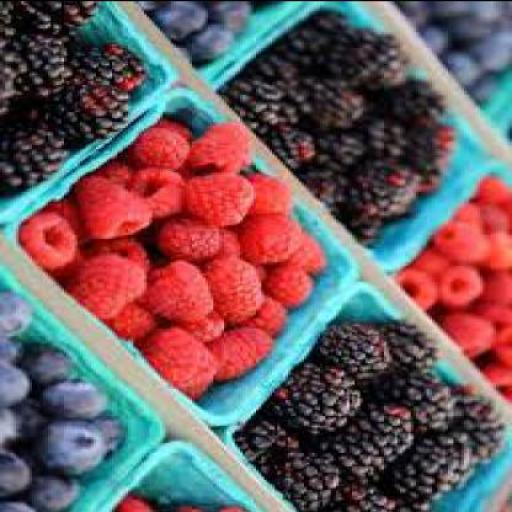biodegradable: (384, 430, 473, 508), (331, 399, 419, 475), (277, 358, 363, 432), (40, 72, 136, 136), (368, 368, 457, 431), (147, 323, 221, 393), (77, 169, 154, 233), (3, 116, 72, 186), (75, 251, 149, 315), (37, 196, 96, 275), (355, 152, 429, 214), (339, 25, 413, 86), (32, 413, 112, 469), (142, 259, 216, 319), (278, 441, 342, 510), (288, 73, 370, 124), (456, 385, 510, 462), (320, 318, 394, 374), (21, 26, 77, 96), (246, 47, 310, 107), (72, 39, 146, 89), (190, 170, 258, 221), (216, 326, 280, 380), (274, 22, 338, 76), (222, 78, 288, 129), (192, 119, 256, 171), (344, 170, 390, 241), (242, 210, 306, 261), (1, 1, 102, 32), (242, 415, 304, 465), (128, 164, 190, 214), (2, 31, 37, 119), (23, 212, 80, 266), (411, 107, 462, 167), (160, 210, 222, 259), (387, 318, 443, 372), (448, 306, 505, 357), (41, 375, 112, 415), (302, 150, 352, 206), (263, 259, 320, 306), (88, 234, 154, 274), (130, 120, 190, 164), (330, 477, 408, 510), (40, 458, 90, 509), (208, 253, 265, 293), (440, 261, 486, 308), (112, 298, 166, 338), (154, 1, 214, 37), (365, 112, 410, 160), (270, 119, 318, 163), (320, 123, 368, 167), (8, 397, 50, 447), (240, 294, 290, 335), (26, 340, 77, 380), (438, 220, 486, 262), (448, 44, 487, 94), (206, 224, 242, 278), (190, 19, 238, 59), (288, 230, 334, 271), (179, 302, 230, 338), (250, 173, 296, 212), (400, 262, 437, 310), (3, 444, 40, 490), (478, 25, 510, 76), (210, 1, 260, 33), (450, 9, 496, 41), (2, 290, 34, 335), (2, 356, 32, 403), (219, 292, 261, 324), (304, 8, 352, 35), (163, 112, 200, 144), (478, 72, 507, 111), (471, 296, 511, 324), (487, 358, 511, 403), (482, 266, 511, 303), (104, 153, 136, 185), (482, 199, 511, 234), (487, 228, 511, 268), (422, 241, 454, 271), (480, 171, 511, 201), (437, 1, 489, 17), (120, 491, 162, 510), (402, 1, 434, 25), (456, 197, 486, 221), (429, 16, 451, 48), (496, 319, 511, 364), (3, 494, 43, 510), (2, 335, 24, 364), (162, 498, 208, 510), (424, 164, 446, 188), (490, 1, 511, 26), (176, 37, 198, 59), (216, 500, 250, 510), (140, 1, 169, 10), (262, 259, 272, 279)
